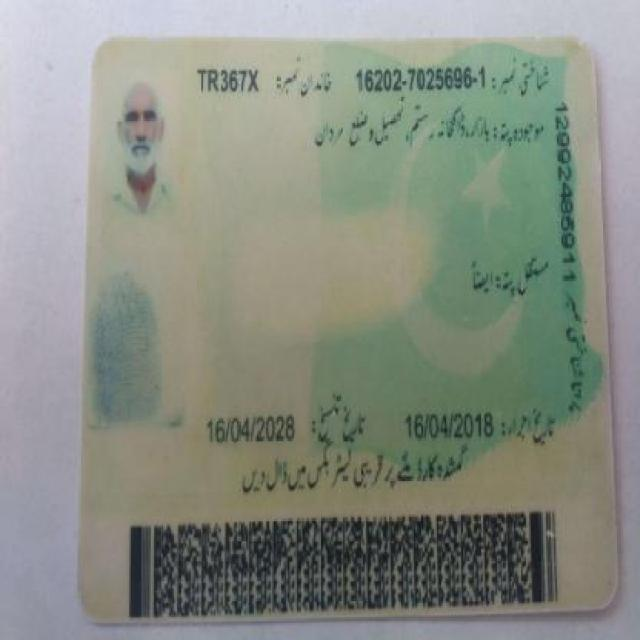Back: (69, 29, 620, 622)
